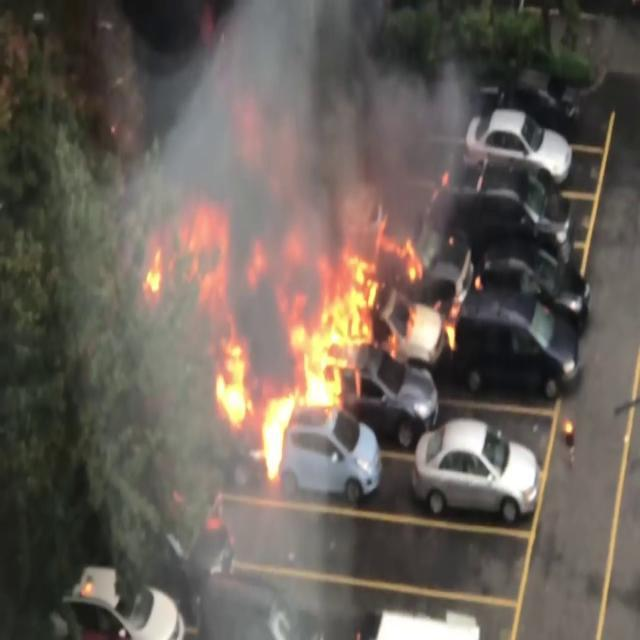Fire: (289, 219, 454, 405), (205, 349, 304, 482)
Smoke: (67, 0, 470, 284)
